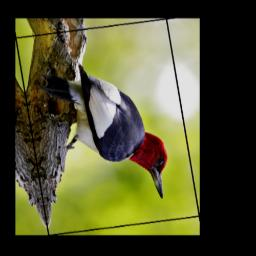Woodpecker: (35, 55, 173, 210)
